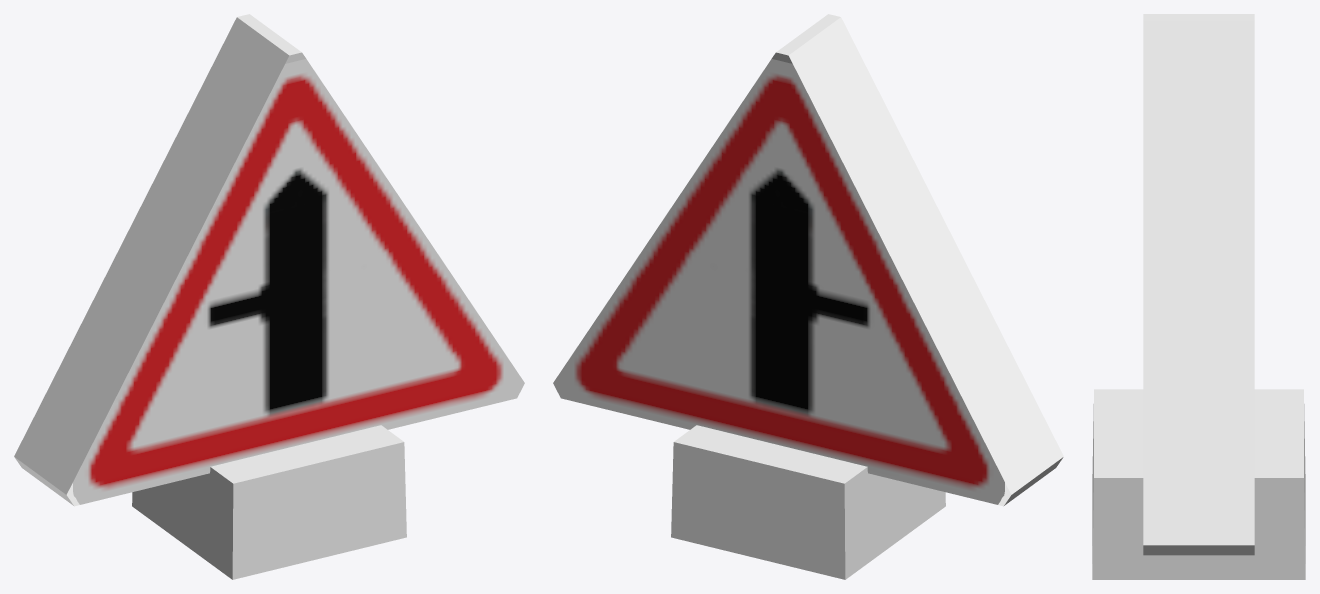
Rendered from Part_Sign_Intersection_left.FBX.
3 renders of one model, left to right at view 1: azimuth 30°, elevation 25°; view 2: azimuth 150°, elevation 25°; view 3: azimuth 270°, elevation 25°, orthographic. The views are drawn at different scales.
Parts seen in each view (by area): view 1: Part_Sign_Intersection_left; view 2: Part_Sign_Intersection_left; view 3: Part_Sign_Intersection_left.
Boxes of the visible parts, box(x1,y1,x2,y2) form: Part_Sign_Intersection_left: box(14, 14, 524, 579); Part_Sign_Intersection_left: box(553, 14, 1063, 579); Part_Sign_Intersection_left: box(1092, 14, 1305, 579).
Size of the model in its own units: 252 by 256 by 95.71.
